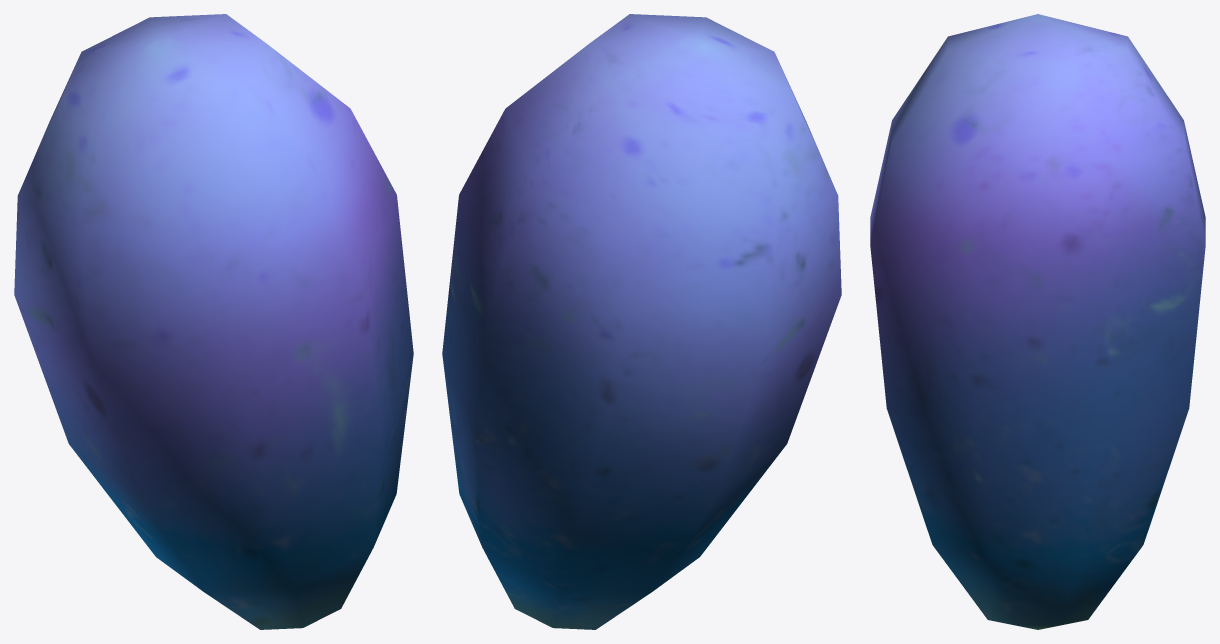
File: Sce_Aquarium_Hawaii01_SeaAnemone15_b.FBX
The picture shows the model from 3 angles, left to right: view 1: azimuth 30°, elevation 25°; view 2: azimuth 150°, elevation 25°; view 3: azimuth 270°, elevation 25°; orthographic projection. The views are drawn at different scales.
Parts seen in each view (by area): view 1: Sce_Aquarium_Hawaii01_SeaAnemone15_b; view 2: Sce_Aquarium_Hawaii01_SeaAnemone15_b; view 3: Sce_Aquarium_Hawaii01_SeaAnemone15_b.
Part boxes in pixels (box(x1,y1,x2,y2)): Sce_Aquarium_Hawaii01_SeaAnemone15_b: box(14, 14, 413, 629); Sce_Aquarium_Hawaii01_SeaAnemone15_b: box(442, 14, 841, 629); Sce_Aquarium_Hawaii01_SeaAnemone15_b: box(870, 14, 1205, 629).
Size of the model in its own units: 0.3245 by 0.5675 by 0.3123.
